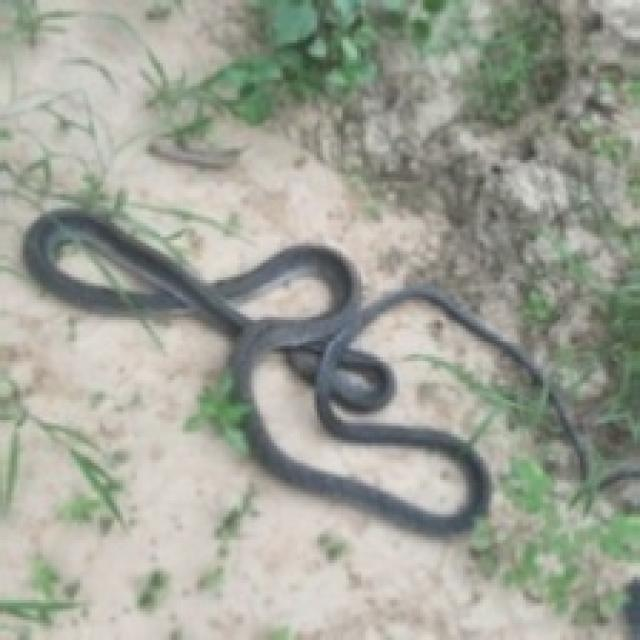king cobra: (23, 209, 589, 534), (251, 349, 466, 511)
